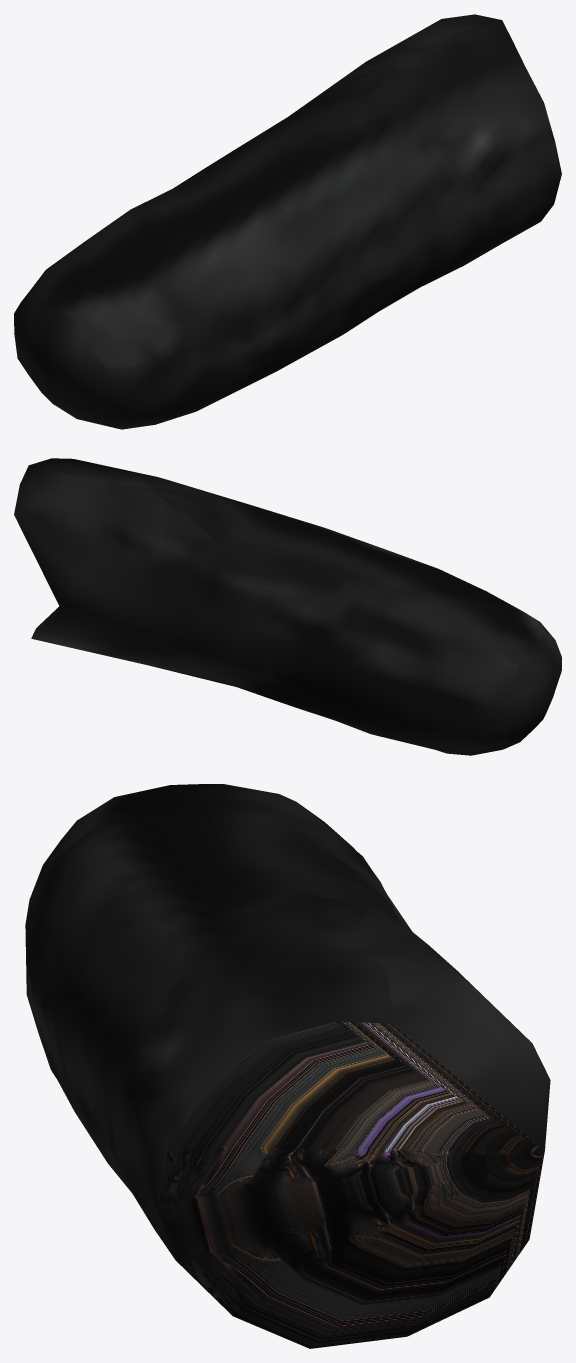
File: finger_bullet.fbx
The picture shows the model from 3 angles, top to bottom: view 1: azimuth 30°, elevation 25°; view 2: azimuth 150°, elevation 25°; view 3: azimuth 270°, elevation 25°; orthographic projection. The views are drawn at different scales.
Parts seen in each view (by area): view 1: finger_bullet; view 2: finger_bullet; view 3: finger_bullet.
Boxes of the visible parts, bbox=[...] form: finger_bullet: bbox=[14, 14, 561, 429]; finger_bullet: bbox=[14, 458, 561, 755]; finger_bullet: bbox=[25, 784, 550, 1348].
Size of the model in its own units: 8.77 by 4 by 4.25.
